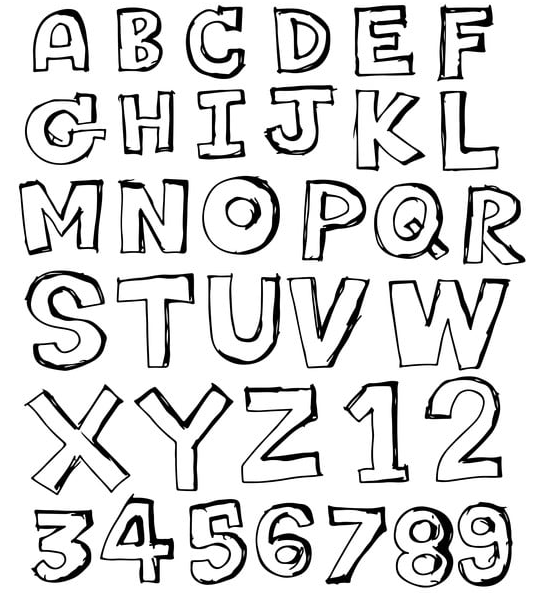1: (341, 376, 414, 489)
2: (422, 375, 515, 483)
3: (30, 502, 96, 586)
4: (99, 495, 180, 587)
5: (182, 493, 253, 589)
6: (251, 498, 320, 584)
7: (324, 502, 390, 589)
8: (394, 501, 456, 590)
9: (454, 498, 521, 587)
A: (25, 3, 94, 77)
B: (107, 5, 171, 73)
C: (180, 6, 253, 80)
D: (268, 5, 336, 77)
E: (347, 3, 419, 80)
F: (433, 2, 500, 82)
G: (23, 89, 110, 166)
H: (118, 88, 184, 161)
I: (193, 85, 248, 162)
J: (264, 78, 339, 156)
K: (347, 90, 428, 170)
L: (434, 88, 507, 173)
M: (14, 173, 108, 259)
N: (114, 175, 190, 257)
O: (198, 175, 281, 258)
P: (292, 176, 368, 263)
Q: (369, 180, 451, 265)
R: (459, 183, 536, 268)
S: (18, 265, 114, 373)
T: (110, 271, 198, 373)
U: (204, 270, 288, 368)
V: (284, 271, 371, 370)
W: (386, 276, 512, 373)
X: (22, 380, 132, 494)
Y: (134, 380, 235, 491)
Z: (237, 383, 326, 487)
